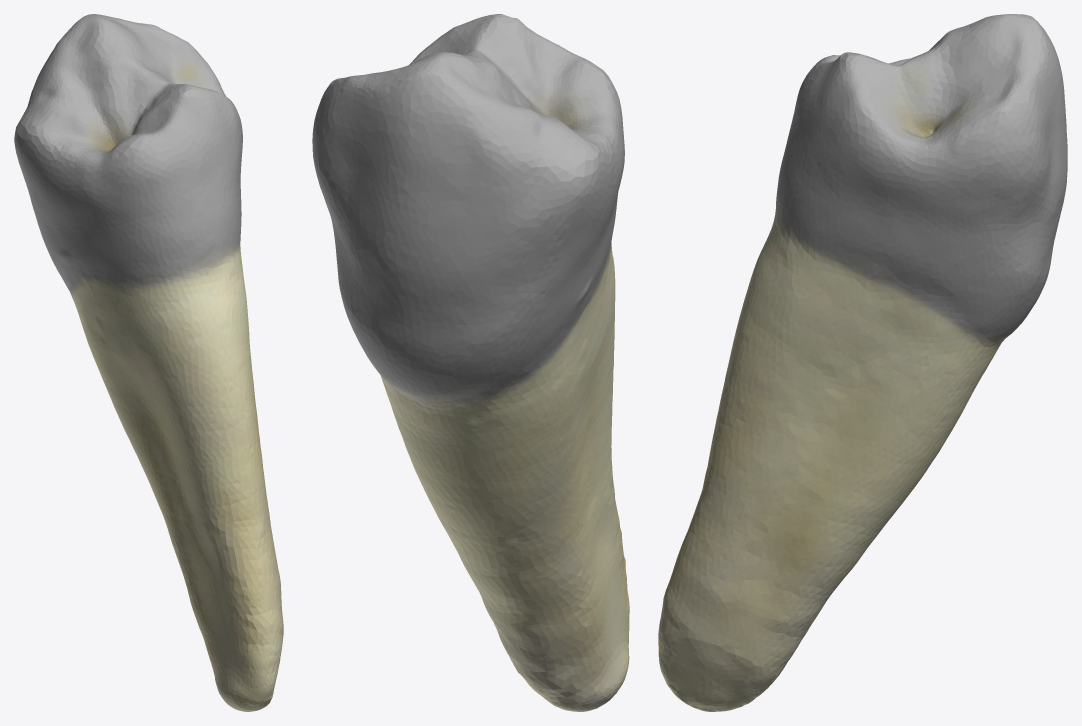
The picture shows the model from 3 angles, left to right: view 1: azimuth 30°, elevation 25°; view 2: azimuth 150°, elevation 25°; view 3: azimuth 270°, elevation 25°; orthographic projection. The views are drawn at different scales.
Visible parts, largest first — view 1: 3MFMeshParent_0; view 2: 3MFMeshParent_0; view 3: 3MFMeshParent_0.
Boxes of the visible parts, x1,y1,x2,y2 form: 3MFMeshParent_0: [14, 14, 283, 711]; 3MFMeshParent_0: [312, 14, 629, 711]; 3MFMeshParent_0: [658, 14, 1067, 711].
Size of the model in its own units: 0.1795 by 0.512 by 0.2774.
1 material, 1 textured.
